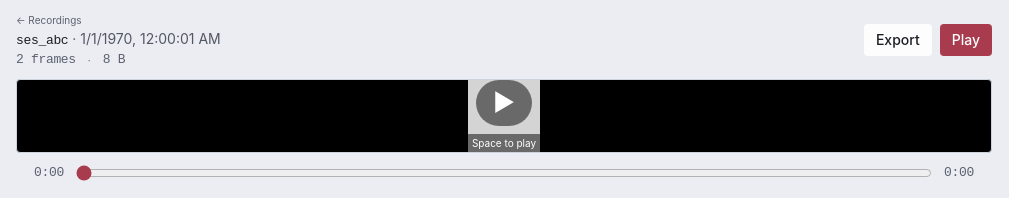
Scenario: RecordingPlayerView — Space play/pause keyboard control › leaves Space on the frame button to native activation so playback doesn't double-toggle
The image size is (1009, 198).
Press Space in the button with aria-label "Play recording", box [17,80,991,152]
Expected: the button "Play" is shown, [940,24,992,56]
Click the button with aria-label "Play recording" at [504, 116], box [17,80,991,152]
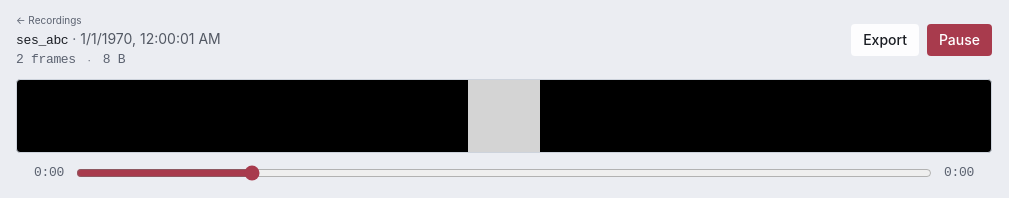
Expected: the button "Pause" is shown, [927,24,992,56]
